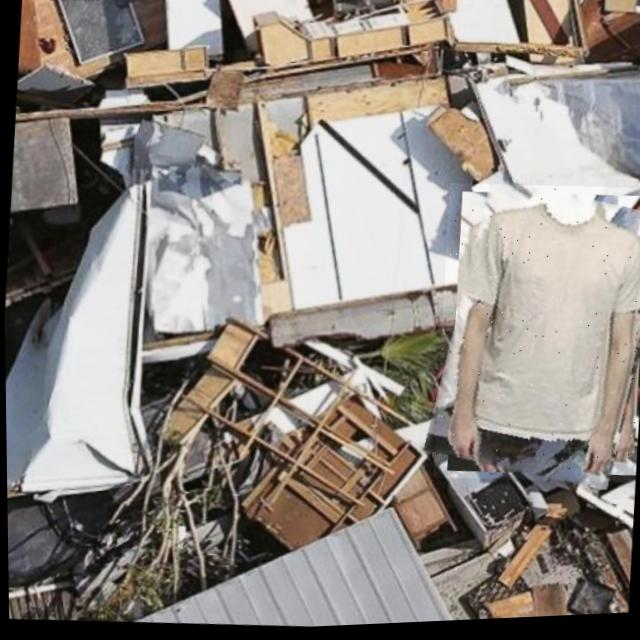Person in Rubble: (428, 180, 640, 494)
